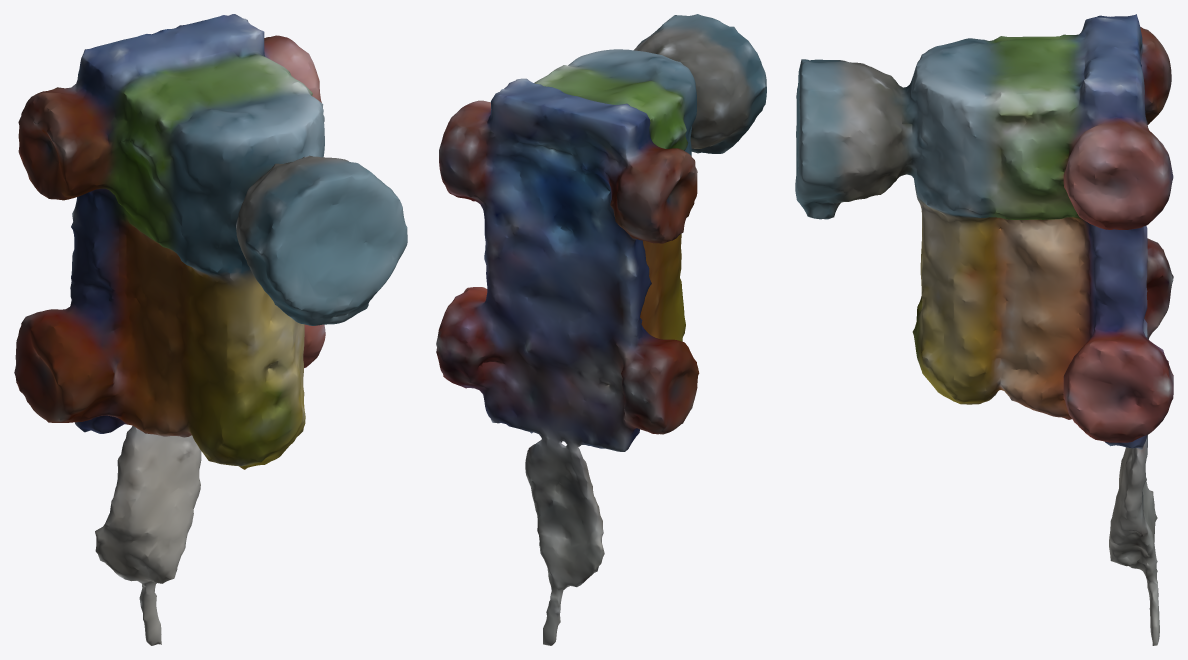
Rendered from train.glb.
3 renders of one model, left to right at view 1: azimuth 30°, elevation 25°; view 2: azimuth 150°, elevation 25°; view 3: azimuth 270°, elevation 25°, orthographic. The views are drawn at different scales.
Size of the model in its own units: 0.4432 by 0.9895 by 0.5681.
